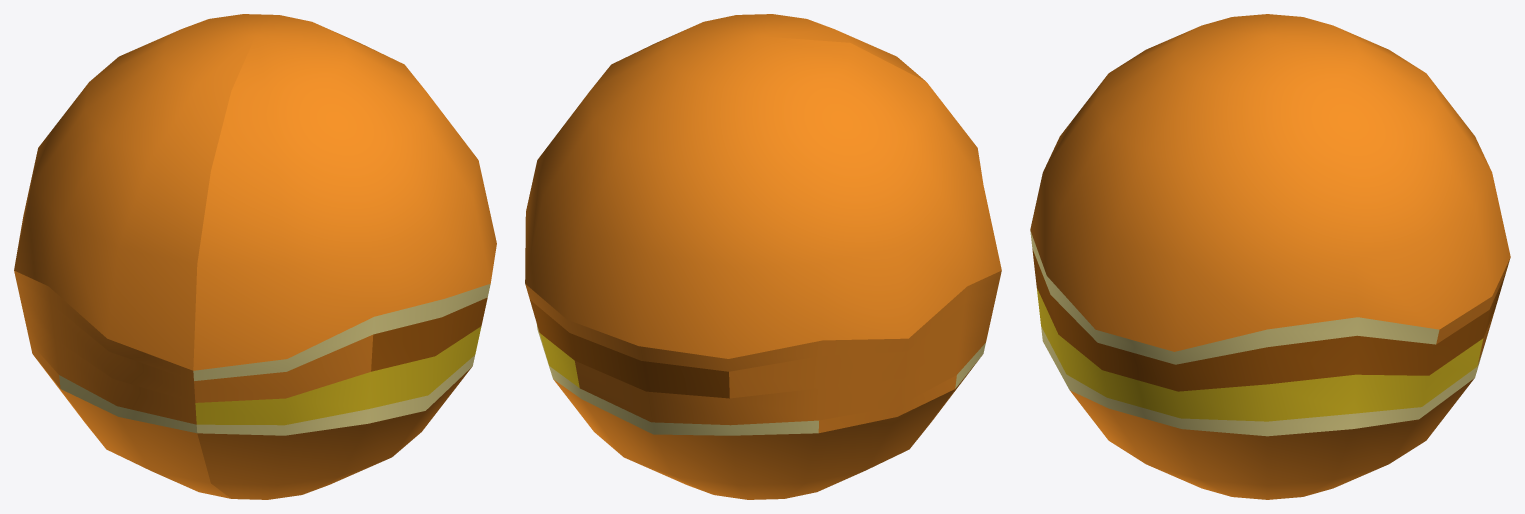
File: 02_Venus.gltf
The picture shows the model from 3 angles, left to right: view 1: azimuth 30°, elevation 25°; view 2: azimuth 150°, elevation 25°; view 3: azimuth 270°, elevation 25°; orthographic projection.
Parts seen in each view (by area): view 1: 02_Venus; view 2: 02_Venus; view 3: 02_Venus.
Boxes of the visible parts, x1=… form: 02_Venus: x1=14, y1=14, x2=496, y2=499; 02_Venus: x1=525, y1=14, x2=1001, y2=499; 02_Venus: x1=1030, y1=14, x2=1510, y2=499.
Size of the model in its own units: 0.4101 by 0.4193 by 0.4142.
1 material, 1 textured.
